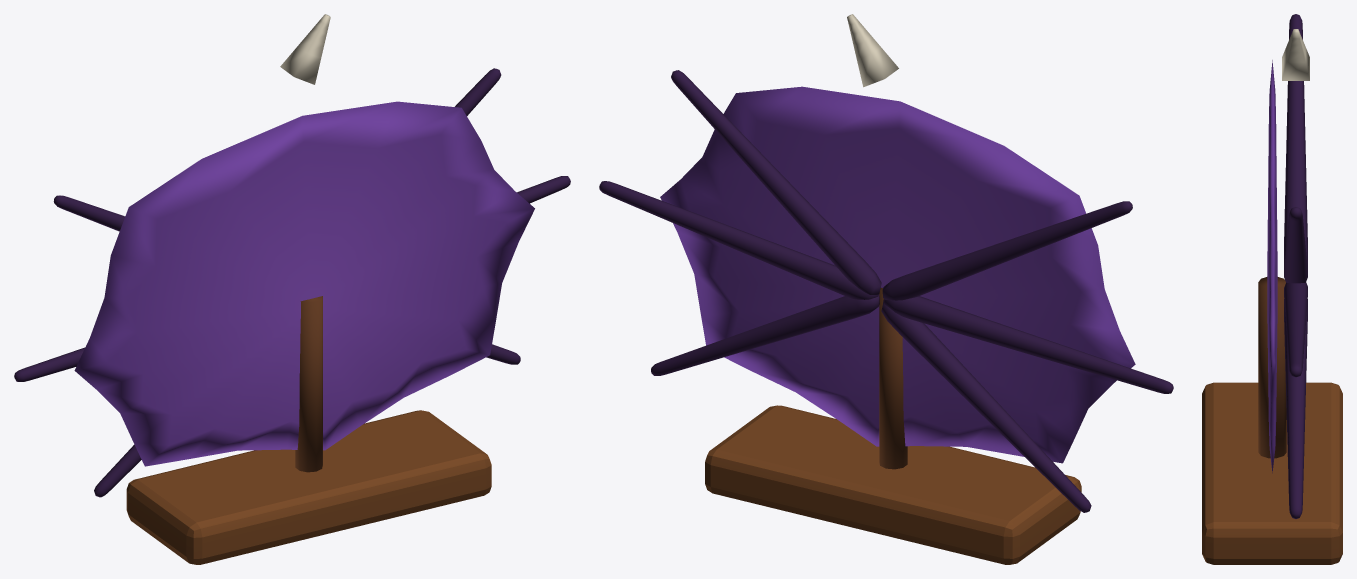
Rendered from ing_wing.glb.
3 renders of one model, left to right at view 1: azimuth 30°, elevation 25°; view 2: azimuth 150°, elevation 25°; view 3: azimuth 270°, elevation 25°, orthographic. The views are drawn at different scales.
Parts seen in each view (by area): view 1: ing_wing; view 2: ing_wing; view 3: ing_wing.
Part boxes in pixels (box(x1,y1,x2,y2)): ing_wing: box(14, 14, 570, 564); ing_wing: box(599, 14, 1173, 564); ing_wing: box(1202, 14, 1342, 564).
Size of the model in its own units: 0.5479 by 0.451 by 0.12.
